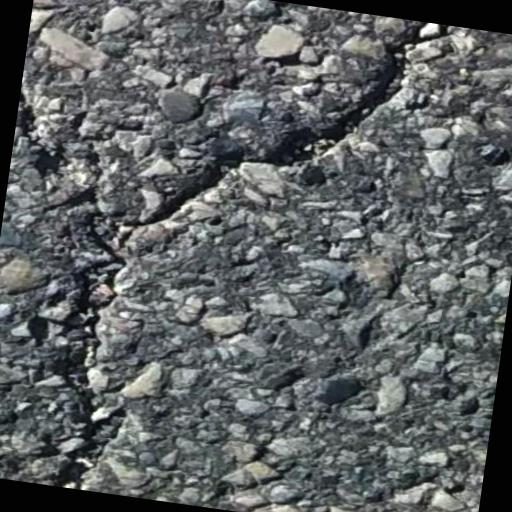spalling: (48, 25, 436, 492)
